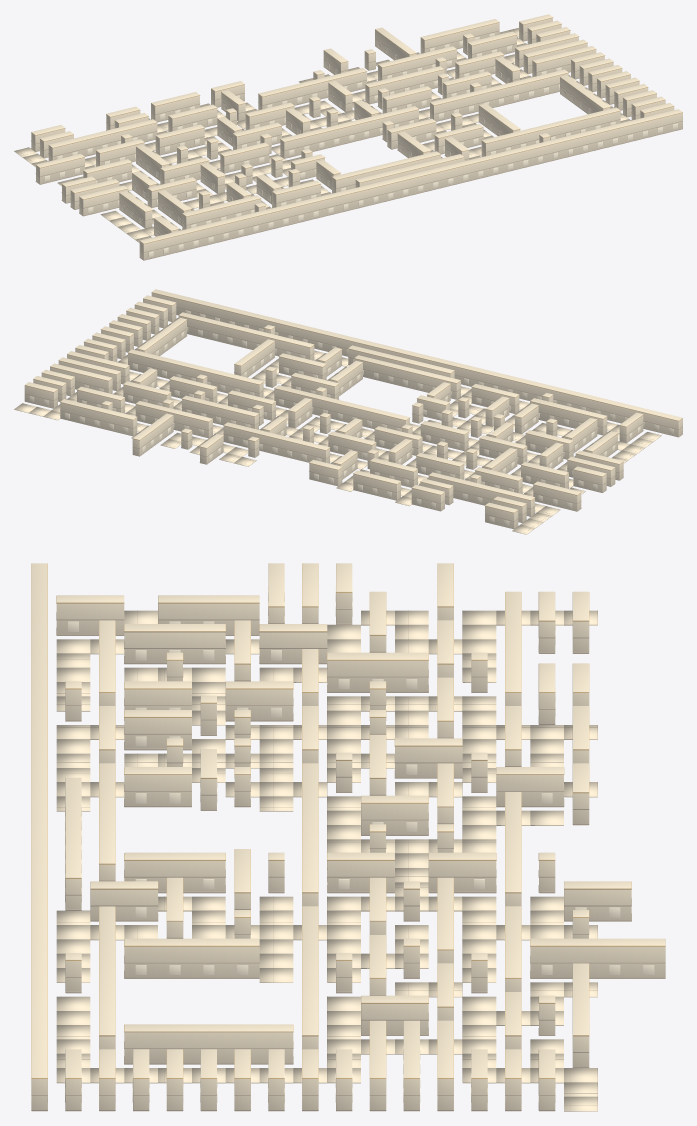
File: castle_district_ward_south_purified.glb
3 views of the same model, one above another, from view 1: azimuth 30°, elevation 25°; view 2: azimuth 150°, elevation 25°; view 3: azimuth 270°, elevation 25° (orthographic). The views are drawn at different scales.
Parts seen in each view (by area): view 1: castle_district_ward_south_purified_surface; view 2: castle_district_ward_south_purified_surface; view 3: castle_district_ward_south_purified_surface.
Boxes of the visible parts, left/top/right/bottom form: castle_district_ward_south_purified_surface: left=14, top=14, right=682, bottom=260; castle_district_ward_south_purified_surface: left=14, top=289, right=682, bottom=534; castle_district_ward_south_purified_surface: left=31, top=563, right=665, bottom=1111.
Bounding box in the file's own units: 180 × 5.56 × 93.77.
